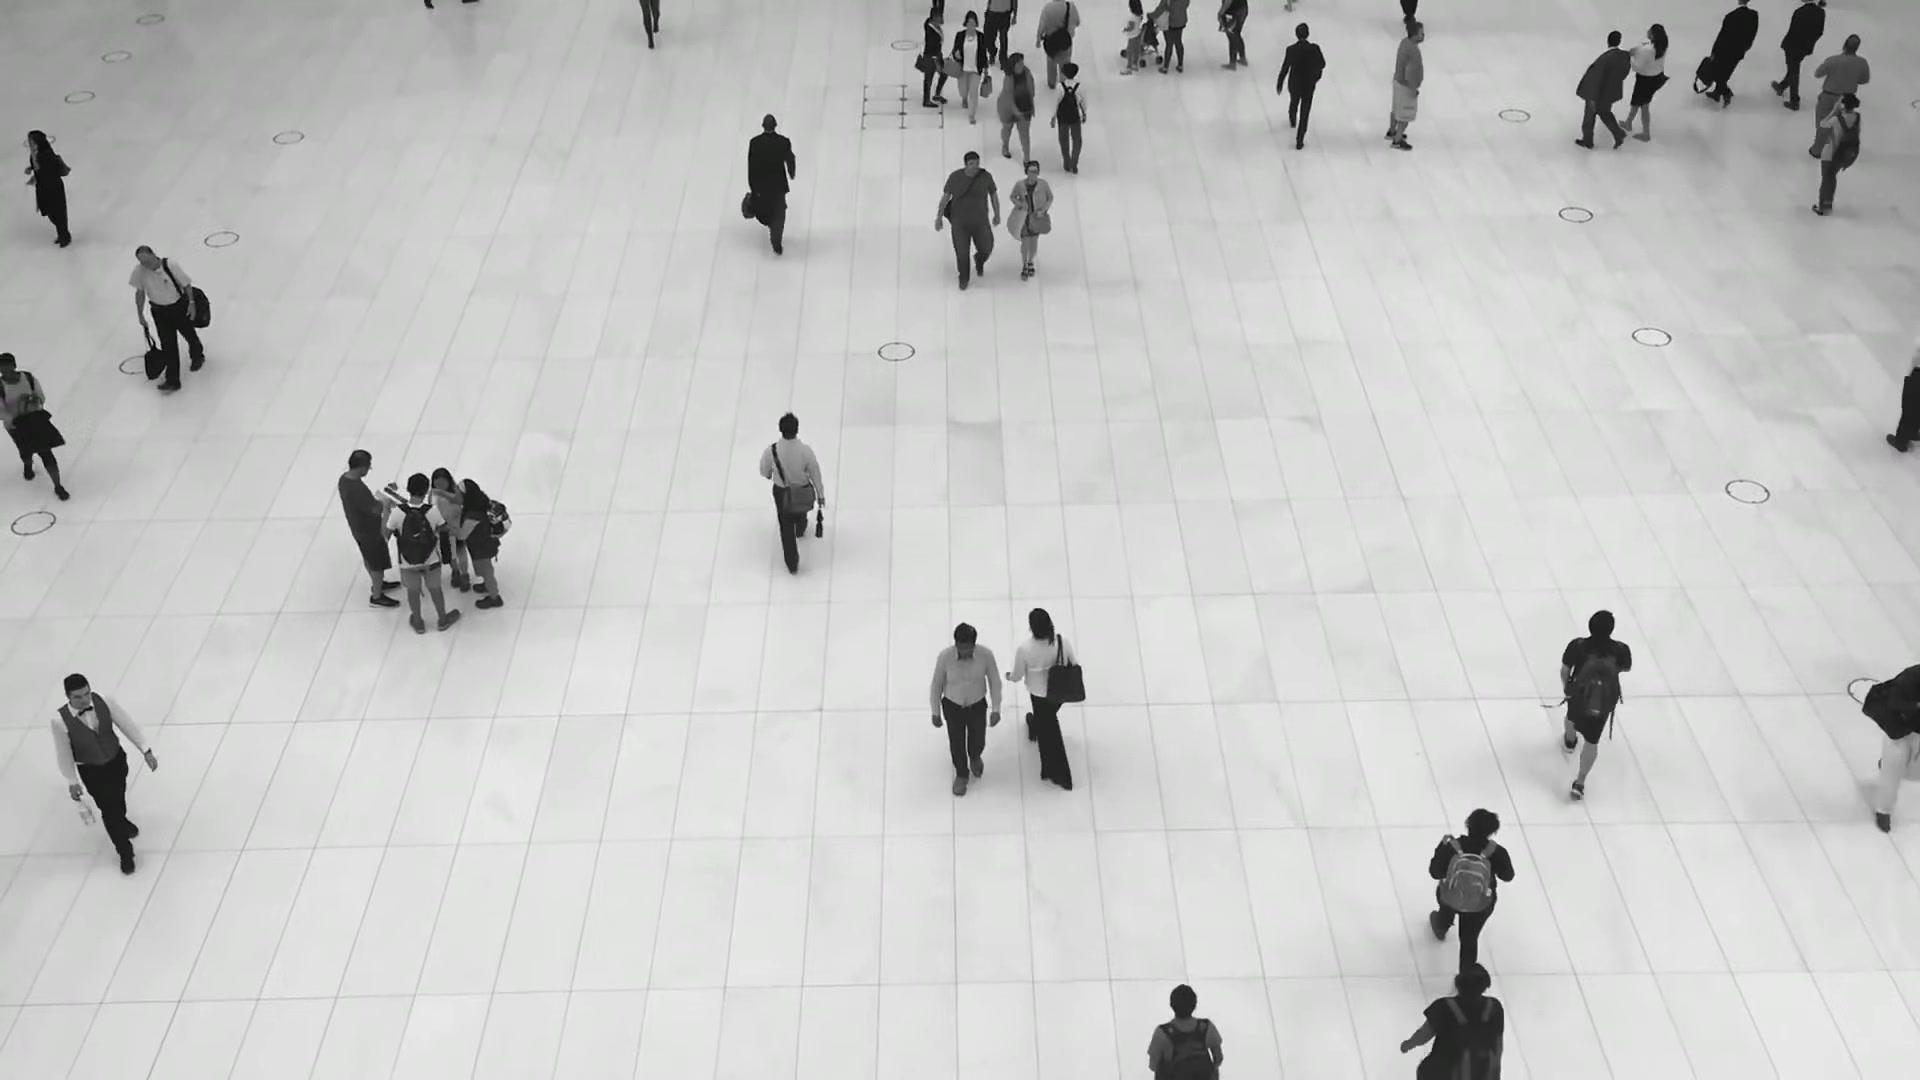person: (51, 674, 153, 862), (1427, 805, 1516, 968), (1558, 609, 1634, 800), (928, 622, 1003, 804), (380, 476, 460, 635), (1399, 960, 1504, 1080), (1005, 602, 1076, 778), (128, 244, 203, 392), (759, 410, 826, 574), (338, 448, 404, 609), (0, 352, 68, 505), (932, 151, 1002, 293), (1805, 94, 1870, 225), (746, 114, 798, 258), (1147, 984, 1223, 1080), (1570, 30, 1629, 152), (454, 478, 506, 610), (1807, 34, 1870, 145), (1276, 22, 1327, 149), (1704, 0, 1758, 112), (24, 129, 73, 250), (1774, 0, 1826, 110), (1383, 22, 1425, 153), (425, 468, 469, 591), (1622, 23, 1668, 141), (1009, 159, 1053, 280), (1048, 62, 1088, 178), (996, 50, 1035, 165), (950, 10, 988, 126), (1035, 0, 1081, 90), (920, 8, 947, 109), (1118, 0, 1143, 76)
